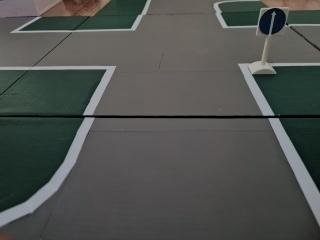straight: (257, 6, 289, 37)
